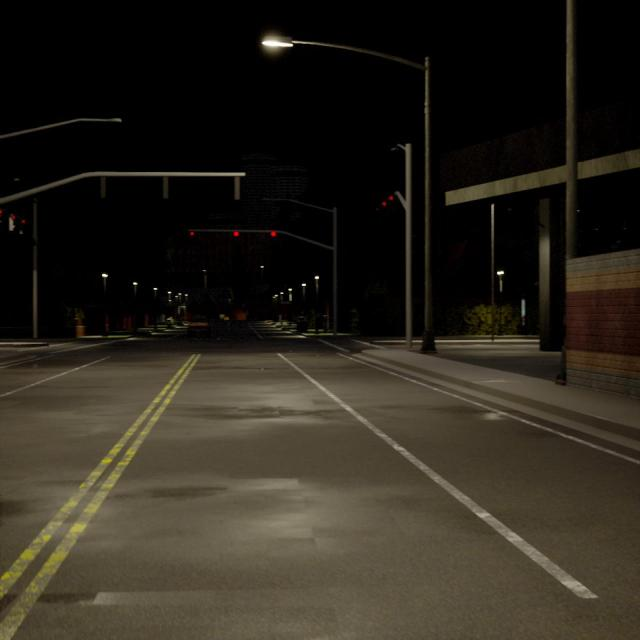Vehicle: (188, 316, 208, 335), (231, 310, 248, 324)
traffic_light: (234, 177, 240, 199), (100, 177, 106, 197), (163, 177, 168, 198), (10, 214, 16, 231), (20, 218, 25, 234), (270, 230, 277, 237), (0, 209, 3, 224), (233, 231, 239, 237), (382, 202, 387, 206), (389, 196, 394, 200), (190, 231, 194, 236), (376, 208, 379, 211)
